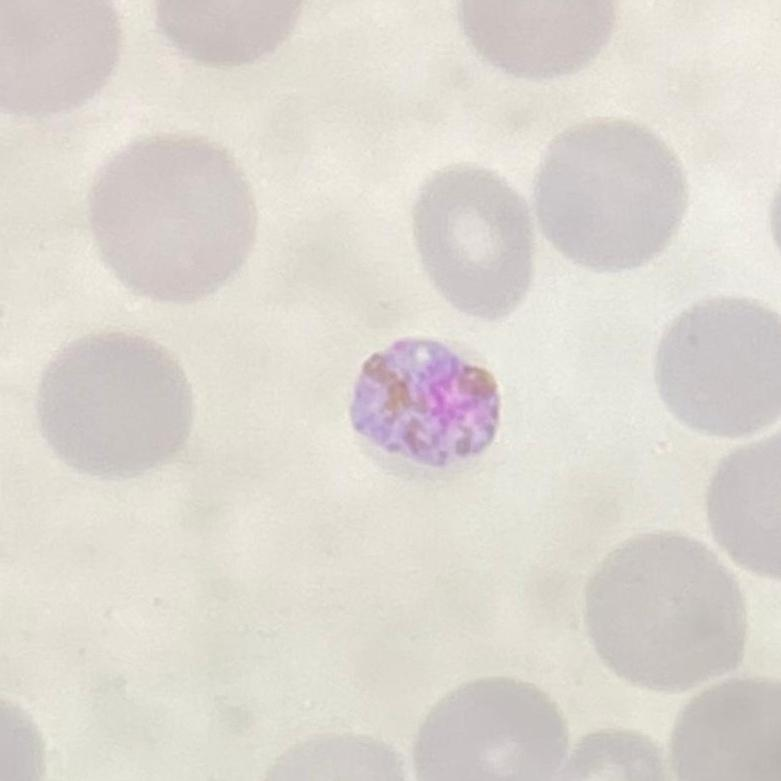Infected: (347, 335, 500, 476)
Uninfected: (87, 129, 256, 304), (584, 535, 745, 686), (536, 120, 686, 275), (36, 332, 192, 475), (410, 165, 536, 318), (654, 297, 781, 437), (414, 672, 573, 781)
